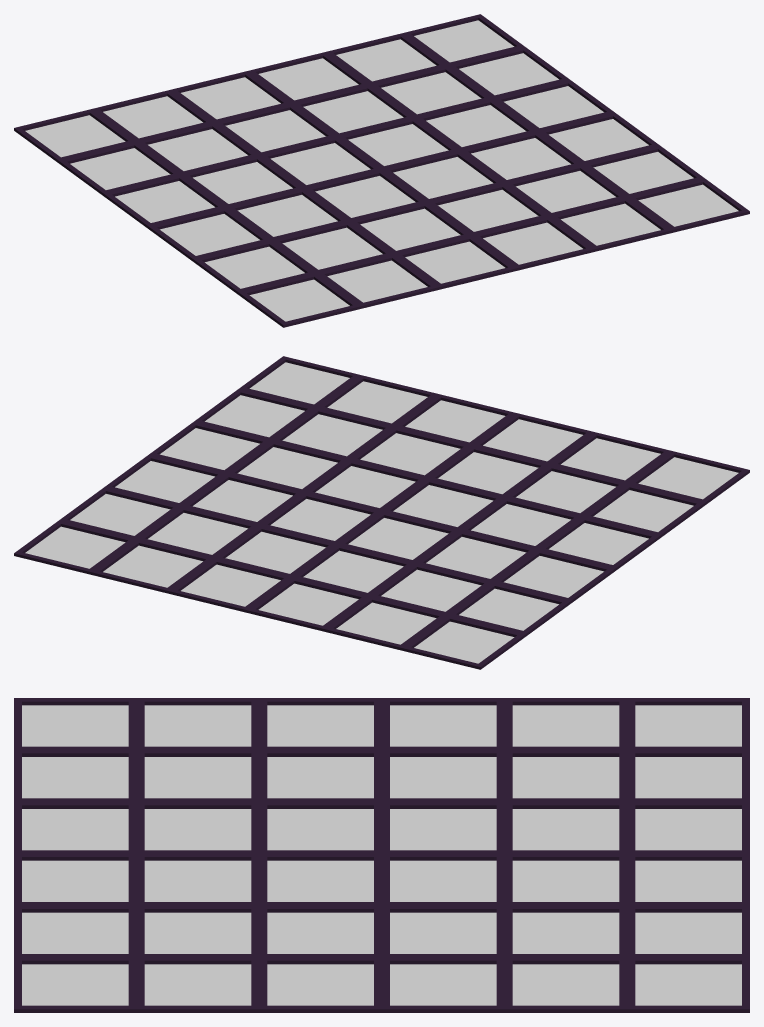
The model's file is PistaDeDanca.fbx.
3 views of the same model, one above another, from view 1: azimuth 30°, elevation 25°; view 2: azimuth 150°, elevation 25°; view 3: azimuth 270°, elevation 25° (orthographic). The views are drawn at different scales.
Parts seen in each view (by area): view 1: Plano; view 2: Plano; view 3: Plano.
Part boxes in pixels (left/top/right/bottom): Plano: left=14, top=14, right=749, bottom=327; Plano: left=14, top=356, right=749, bottom=669; Plano: left=14, top=698, right=749, bottom=1012.
Bounding box in the file's own units: 600 × 3.32 × 600.
